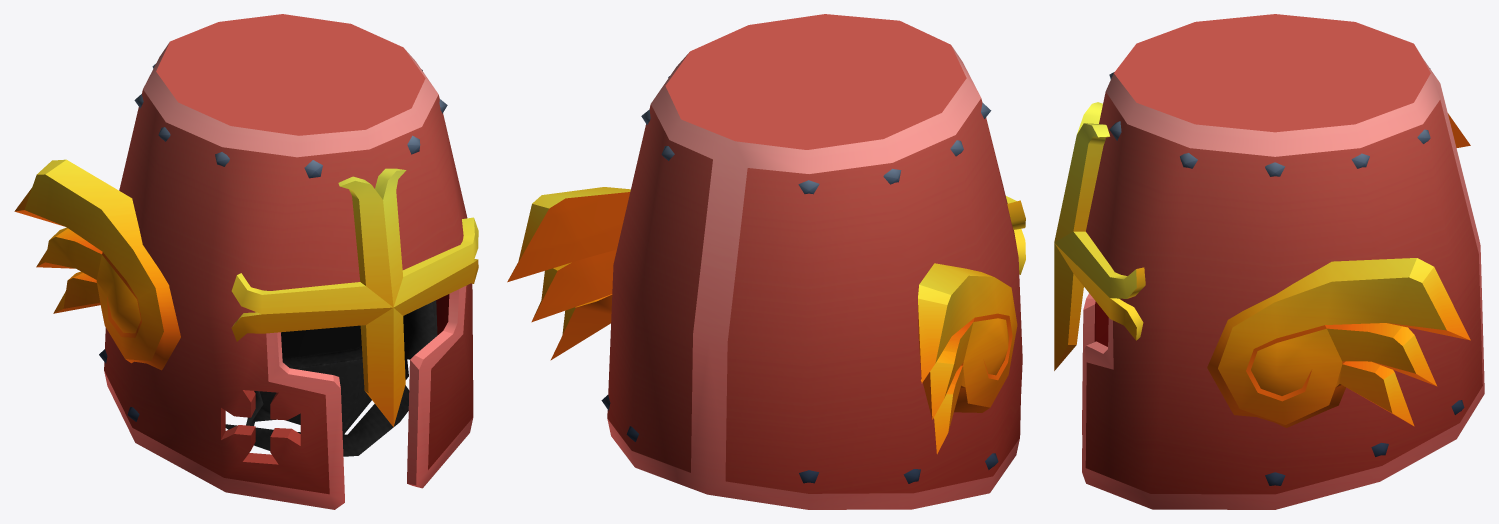
The model's file is Helmet_Red03.fbx.
3 renders of one model, left to right at view 1: azimuth 30°, elevation 25°; view 2: azimuth 150°, elevation 25°; view 3: azimuth 270°, elevation 25°, orthographic. The views are drawn at different scales.
Visible parts, largest first — view 1: Helmet_06_M_Red; view 2: Helmet_06_M_Red; view 3: Helmet_06_M_Red.
Boxes of the visible parts, x1,y1,x2,y2 form: Helmet_06_M_Red: (14,14,478,509); Helmet_06_M_Red: (507,14,1025,509); Helmet_06_M_Red: (1054,14,1484,509).
Bounding box in the file's own units: 1040 × 959 × 966.
